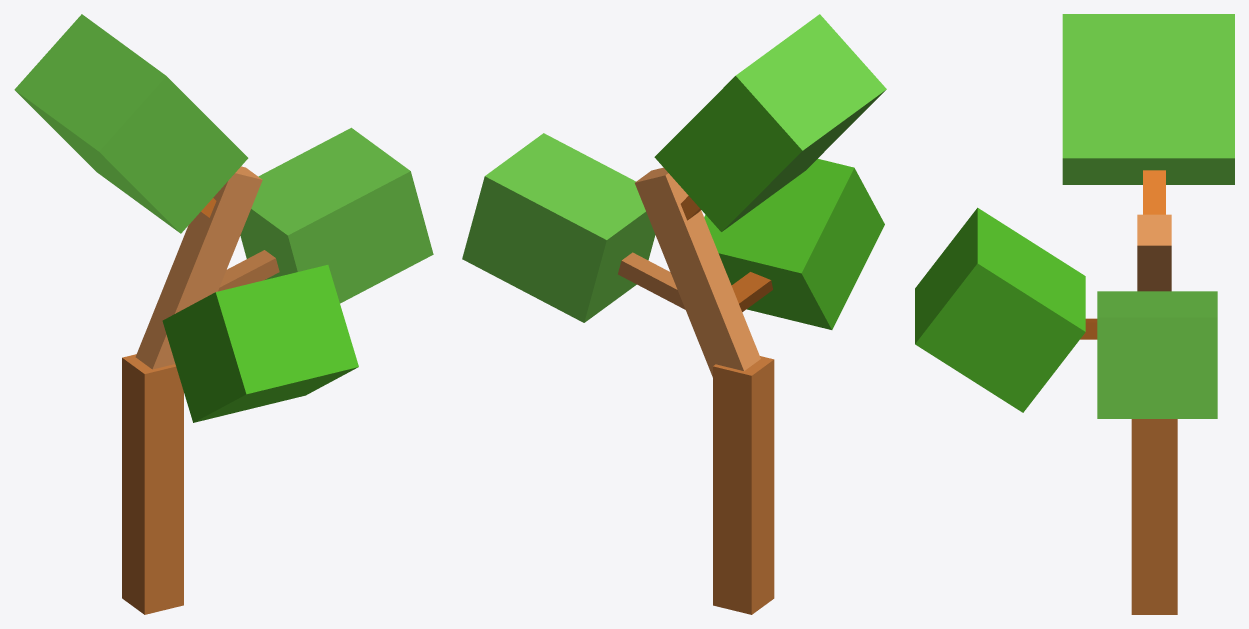
The model's file is Tree1.obj.
The picture shows the model from 3 angles, left to right: view 1: azimuth 30°, elevation 25°; view 2: azimuth 150°, elevation 25°; view 3: azimuth 270°, elevation 25°; orthographic projection. The views are drawn at different scales.
Parts seen in each view (by area): view 1: cube; view 2: cube; view 3: cube.
Boxes of the visible parts, <box> form: cube: <box>14,14,433,614</box>; cube: <box>462,14,886,614</box>; cube: <box>915,14,1234,614</box>.
Bounding box in the file's own units: 0.5608 × 0.8641 × 0.4354.
1 material, 1 textured.
